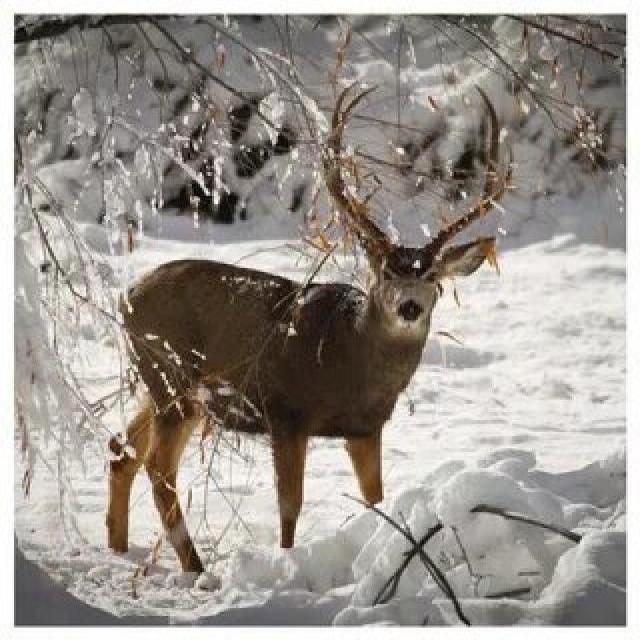deer: (67, 176, 502, 511)
